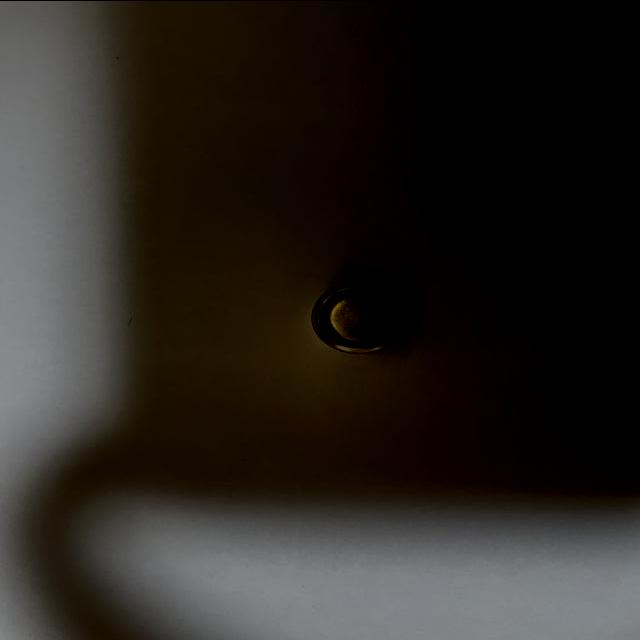COIN: (310, 280, 408, 356)
